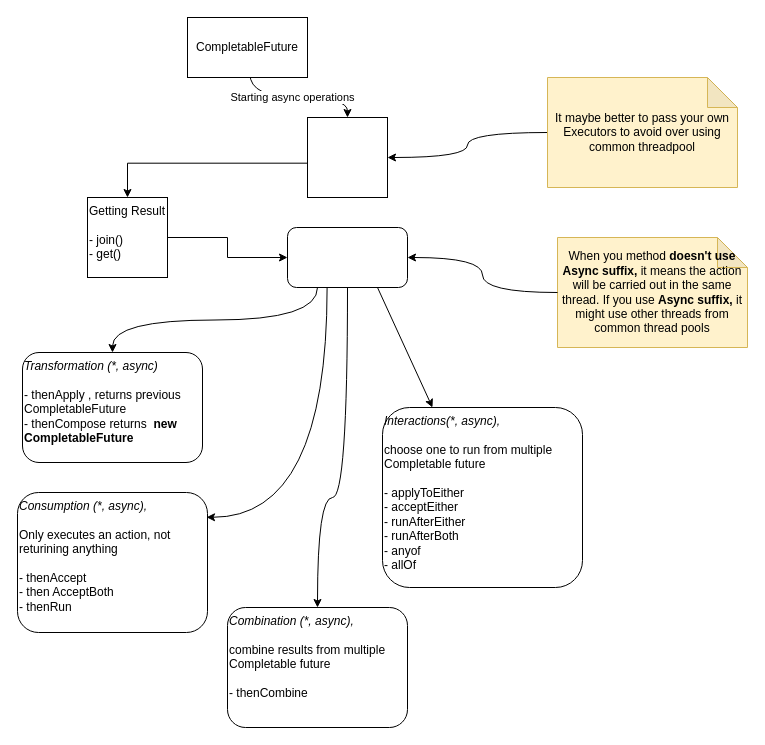
The diagram is 765 pixels wide and 745 high, and some of its shapes have lost their labels. The shapes that lost their labels are listed below. From the top down, each one's centre as x and y in pixels, then its label:
At [347,157]: "runAsync, supplyAsync (4 methods)".
At [347,257]: "Handling Result - whenComplete() - exceptionally".
